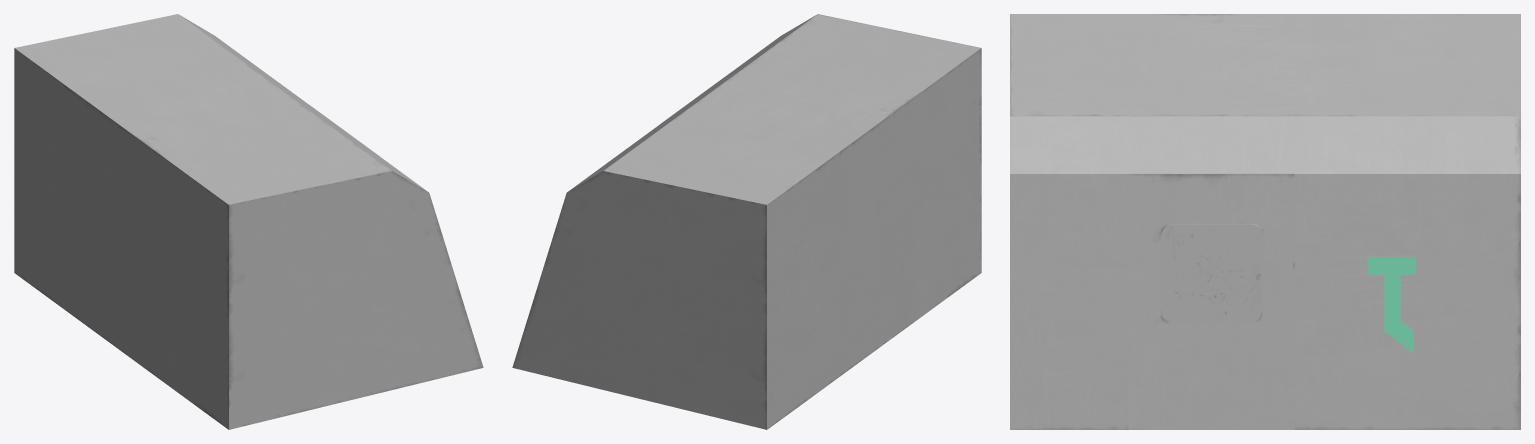
Rendered from stanok.fbx.
The picture shows the model from 3 angles, left to right: view 1: azimuth 30°, elevation 25°; view 2: azimuth 150°, elevation 25°; view 3: azimuth 270°, elevation 25°; orthographic projection. The views are drawn at different scales.
Parts seen in each view (by area): view 1: Main Body; view 2: Main Body; view 3: Main Body, Door, Glass.
Boxes of the visible parts, x1,y1,x2,y2 form: Main Body: (14,14,483,429); Main Body: (512,14,981,429); Main Body: (1010,14,1520,429); Door: (1128,173,1294,429); Glass: (1161,224,1262,321).
Size of the model in its own units: 0.839 by 0.708 by 1.22.
